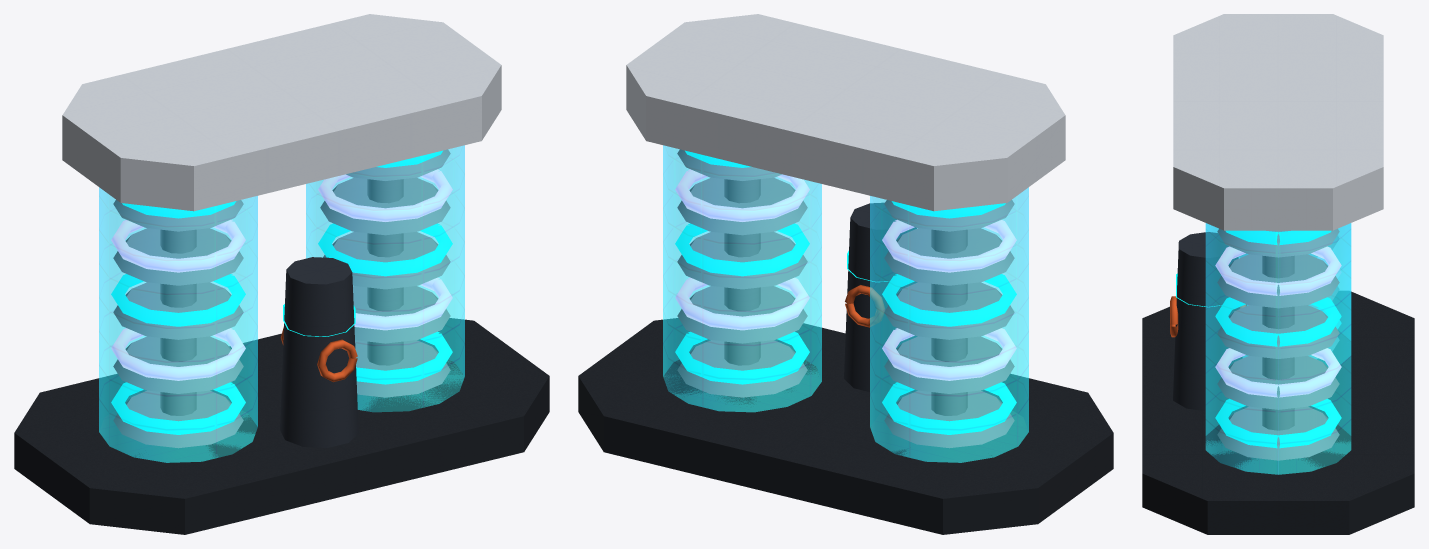
The model's file is prop_03_r1_03.glb.
3 views of the same model, side by side, from view 1: azimuth 30°, elevation 25°; view 2: azimuth 150°, elevation 25°; view 3: azimuth 270°, elevation 25° (orthographic). The views are drawn at different scales.
Visible parts, largest first — view 1: Prop03_C03_glass_cyan, Prop03_C03_aero_white, Prop03_C03_gunmetal, Prop03_C03_steel_machined, Prop03_C03_carbon_slate, Prop03_C03_led_cyan, Prop03_C03_led_uv, Prop03_C03_accent_orange; view 2: Prop03_C03_glass_cyan, Prop03_C03_aero_white, Prop03_C03_gunmetal, Prop03_C03_steel_machined, Prop03_C03_led_cyan, Prop03_C03_led_uv, Prop03_C03_carbon_slate, Prop03_C03_accent_orange; view 3: Prop03_C03_aero_white, Prop03_C03_gunmetal, Prop03_C03_glass_cyan, Prop03_C03_steel_machined, Prop03_C03_carbon_slate, Prop03_C03_led_cyan, Prop03_C03_led_uv, Prop03_C03_accent_orange.
Boxes of the visible parts, x1,y1,x2,y2 form: Prop03_C03_glass_cyan: [99, 145, 464, 462]; Prop03_C03_aero_white: [62, 14, 501, 211]; Prop03_C03_gunmetal: [14, 318, 549, 534]; Prop03_C03_steel_machined: [113, 149, 450, 448]; Prop03_C03_carbon_slate: [280, 257, 358, 447]; Prop03_C03_led_cyan: [111, 150, 452, 434]; Prop03_C03_led_uv: [111, 169, 452, 380]; Prop03_C03_accent_orange: [280, 327, 357, 382]; Prop03_C03_glass_cyan: [663, 145, 1028, 462]; Prop03_C03_aero_white: [626, 14, 1065, 211]; Prop03_C03_gunmetal: [578, 318, 1113, 534]; Prop03_C03_steel_machined: [677, 149, 1014, 448]; Prop03_C03_led_cyan: [675, 150, 1016, 434]; Prop03_C03_led_uv: [675, 169, 1016, 380]; Prop03_C03_carbon_slate: [844, 203, 916, 392]; Prop03_C03_accent_orange: [845, 285, 885, 327]; Prop03_C03_aero_white: [1173, 14, 1383, 230]; Prop03_C03_gunmetal: [1142, 291, 1414, 534]; Prop03_C03_glass_cyan: [1205, 223, 1351, 474]; Prop03_C03_steel_machined: [1217, 229, 1339, 460]; Prop03_C03_carbon_slate: [1173, 232, 1242, 411]; Prop03_C03_led_cyan: [1176, 230, 1341, 448]; Prop03_C03_led_uv: [1215, 246, 1341, 397]; Prop03_C03_accent_orange: [1170, 296, 1246, 337].
Size of the model in its own units: 3.2 by 2.33 by 1.75.
8 materials, 8 textured.
